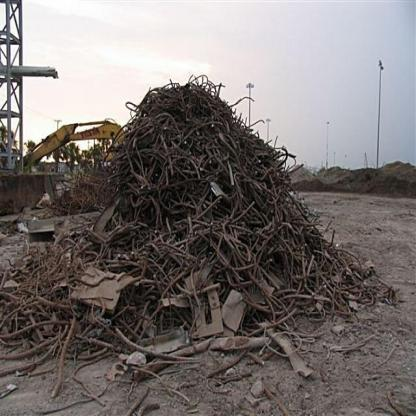rebar: (0, 71, 405, 415)
